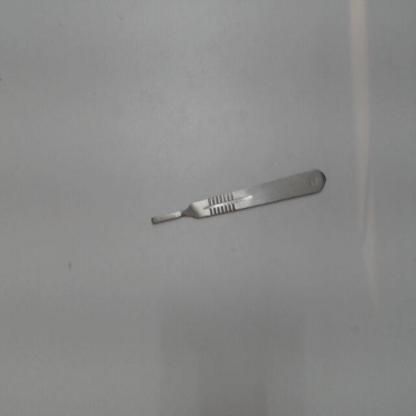No.4 BP Handle: (144, 155, 334, 242)
